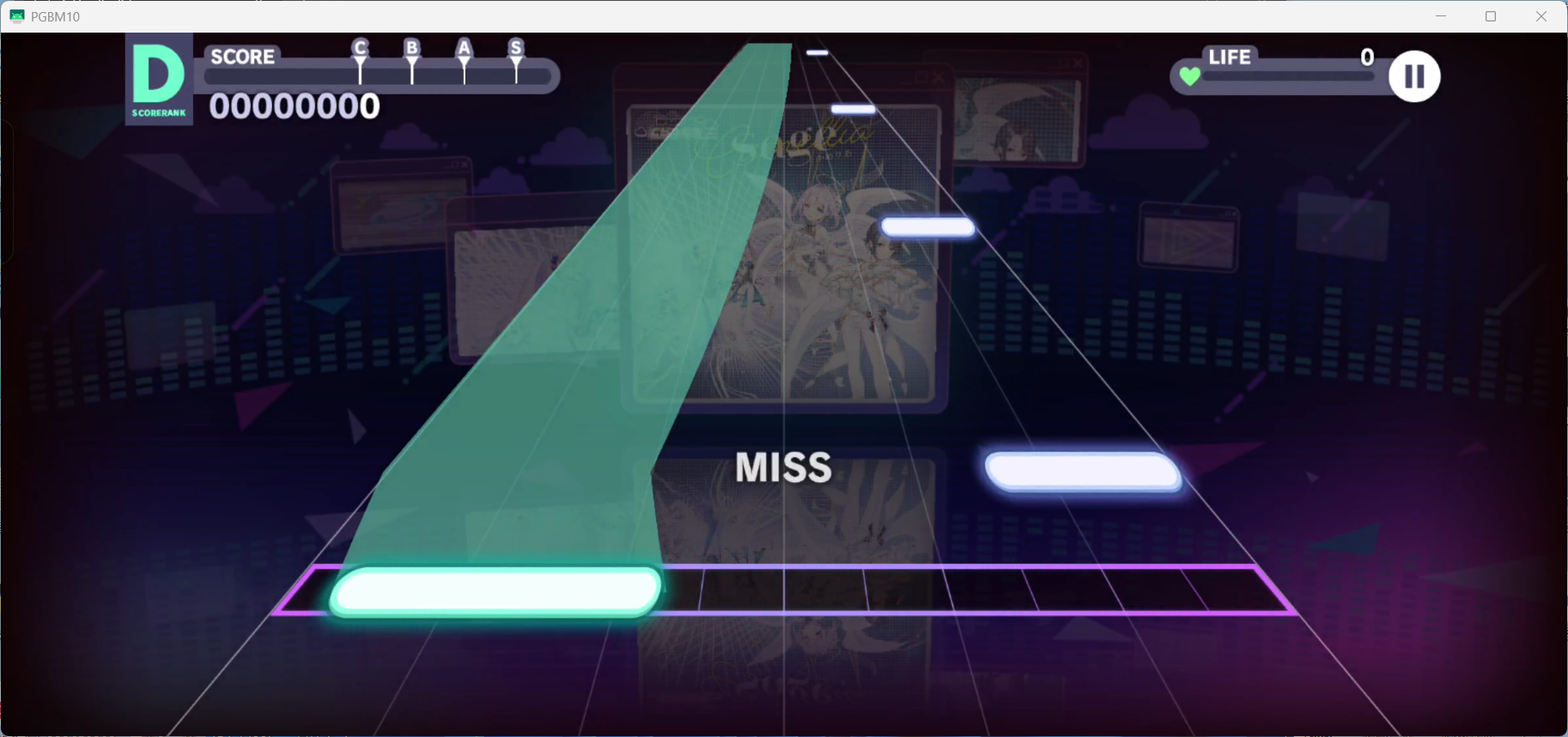hold: (346, 42, 791, 571)
tap: (328, 565, 661, 620), (984, 450, 1182, 492), (882, 218, 975, 239), (831, 104, 875, 114), (806, 50, 829, 55)
